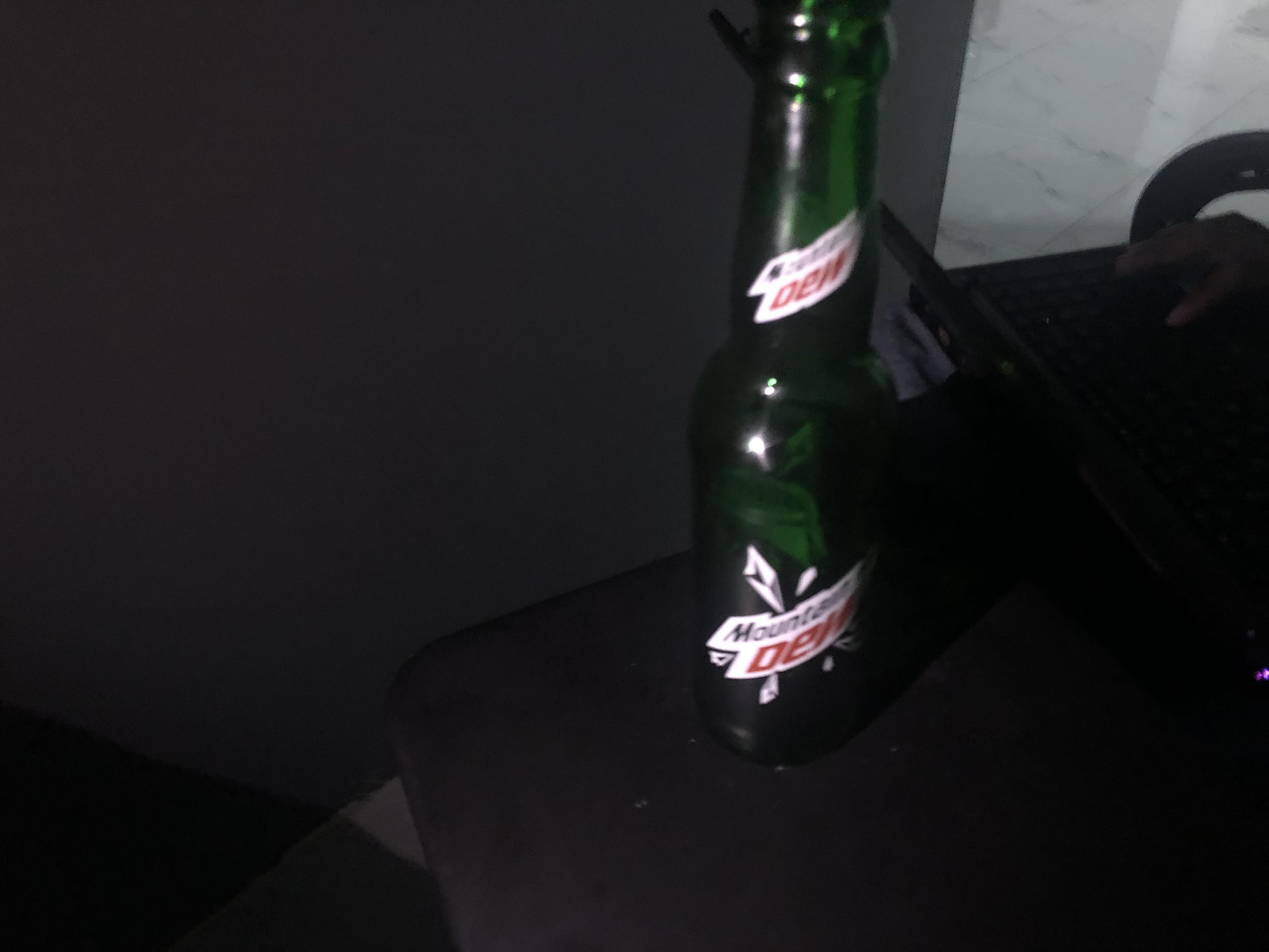bottle-glass: (690, 0, 897, 768)
